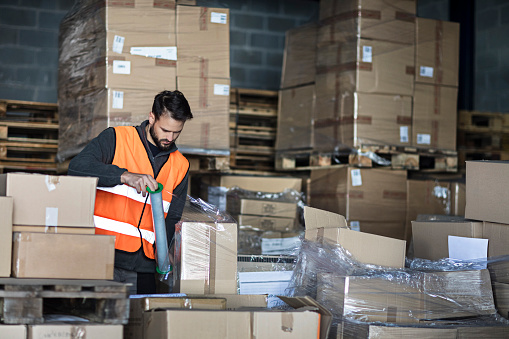em pe: (48, 95, 191, 270)
